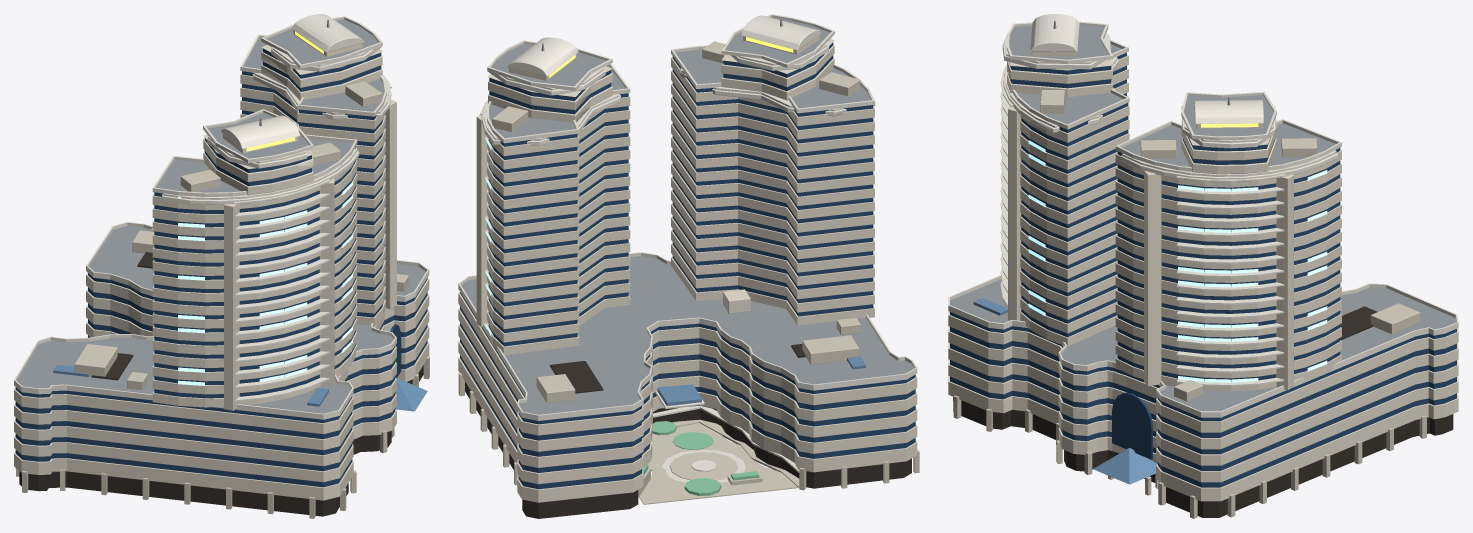
File: towers-at-rincon.optimized.glb
The picture shows the model from 3 angles, left to right: view 1: azimuth 30°, elevation 25°; view 2: azimuth 150°, elevation 25°; view 3: azimuth 270°, elevation 25°; orthographic projection. The views are drawn at different scales.
Visible parts, largest first — view 1: grp_Toy_sand, grp_Toy_glass, grp_Toy_trim, grp_Toy_steel, grp_Toy_ink, grp_Toy_stone, grp_Toy_glassl_Glow, grp_Toy_glassl; view 2: grp_Toy_sand, grp_Toy_glass, grp_Toy_steel, grp_Toy_trim, grp_Toy_stone, grp_Toy_ink, grp_Toy_mint, grp_Toy_glassl; view 3: grp_Toy_sand, grp_Toy_glass, grp_Toy_trim, grp_Toy_steel, grp_Toy_ink, grp_Toy_stone, grp_Toy_glassl_Glow, grp_Toy_glassl.
Boxes of the visible parts, x1,y1,x2,y2 form: grp_Toy_sand: (14, 30, 429, 500); grp_Toy_glass: (15, 48, 427, 487); grp_Toy_trim: (14, 14, 429, 419); grp_Toy_steel: (17, 19, 425, 413); grp_Toy_ink: (19, 252, 423, 516); grp_Toy_stone: (16, 81, 429, 518); grp_Toy_glassl_Glow: (178, 182, 352, 385); grp_Toy_glassl: (53, 365, 427, 411); grp_Toy_sand: (458, 35, 917, 502); grp_Toy_glass: (460, 42, 915, 489); grp_Toy_steel: (461, 17, 913, 414); grp_Toy_trim: (458, 14, 917, 482); grp_Toy_stone: (458, 41, 919, 504); grp_Toy_ink: (465, 344, 911, 518); grp_Toy_mint: (642, 421, 759, 495); grp_Toy_glassl: (657, 355, 865, 405); grp_Toy_sand: (948, 33, 1458, 501); grp_Toy_glass: (950, 52, 1456, 487); grp_Toy_trim: (948, 14, 1458, 417); grp_Toy_steel: (950, 20, 1456, 411); grp_Toy_ink: (953, 306, 1453, 517); grp_Toy_stone: (953, 90, 1426, 518); grp_Toy_glassl_Glow: (1007, 116, 1327, 382); grp_Toy_glassl: (973, 298, 1157, 484).
Bounding box in the file's own units: 109 × 89 × 109.
